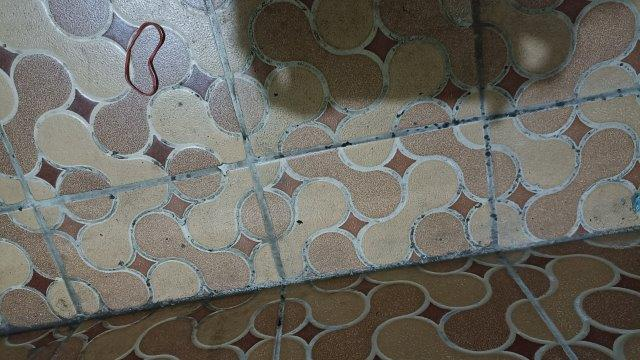karet: (125, 22, 164, 95)
